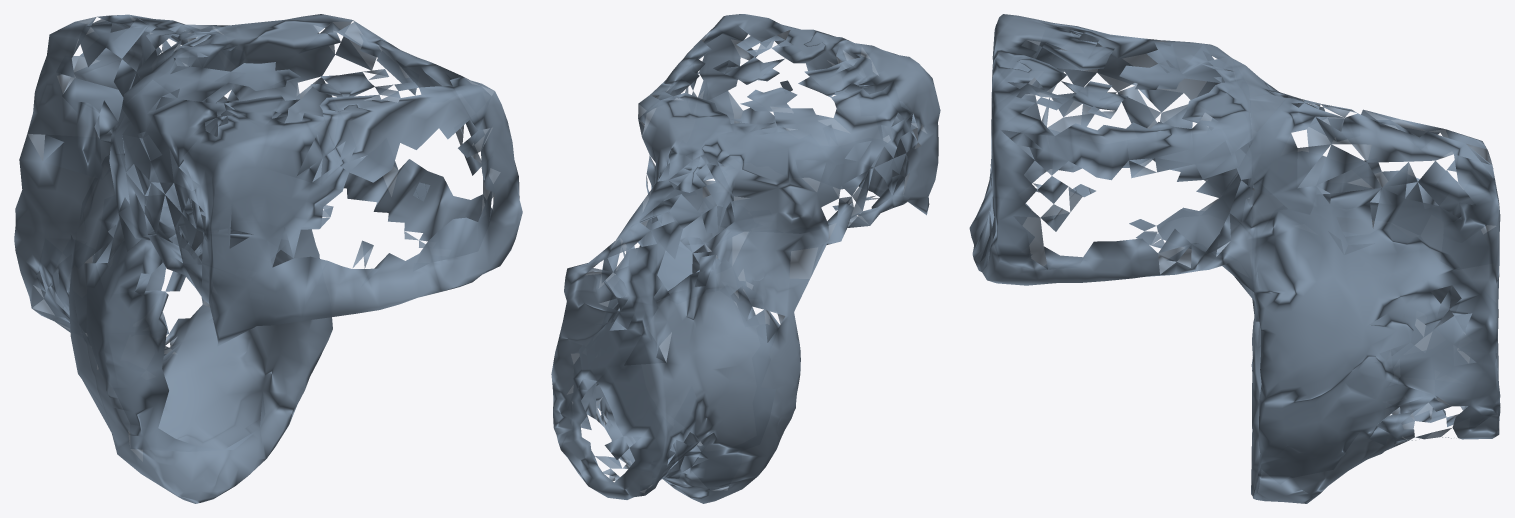
File: toilet_0015_recon.obj
The picture shows the model from 3 angles, left to right: view 1: azimuth 30°, elevation 25°; view 2: azimuth 150°, elevation 25°; view 3: azimuth 270°, elevation 25°; orthographic projection. The views are drawn at different scales.
Size of the model in its own units: 0.8759 by 1.35 by 1.46.
